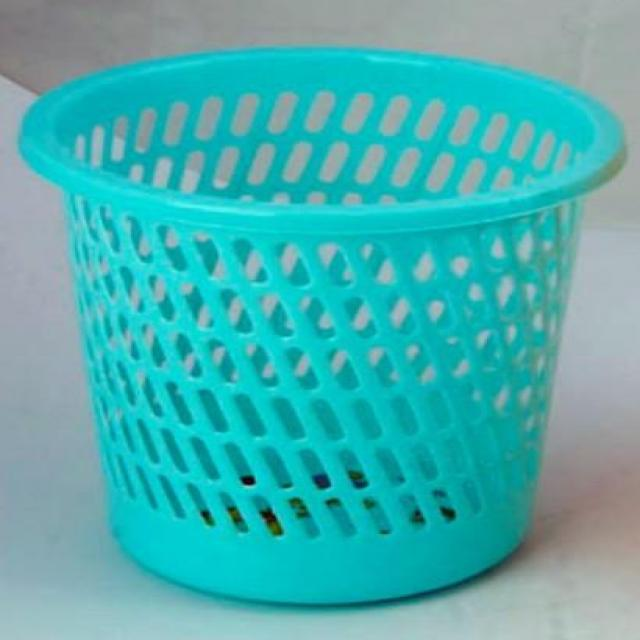Dustbin: (12, 36, 634, 614)
